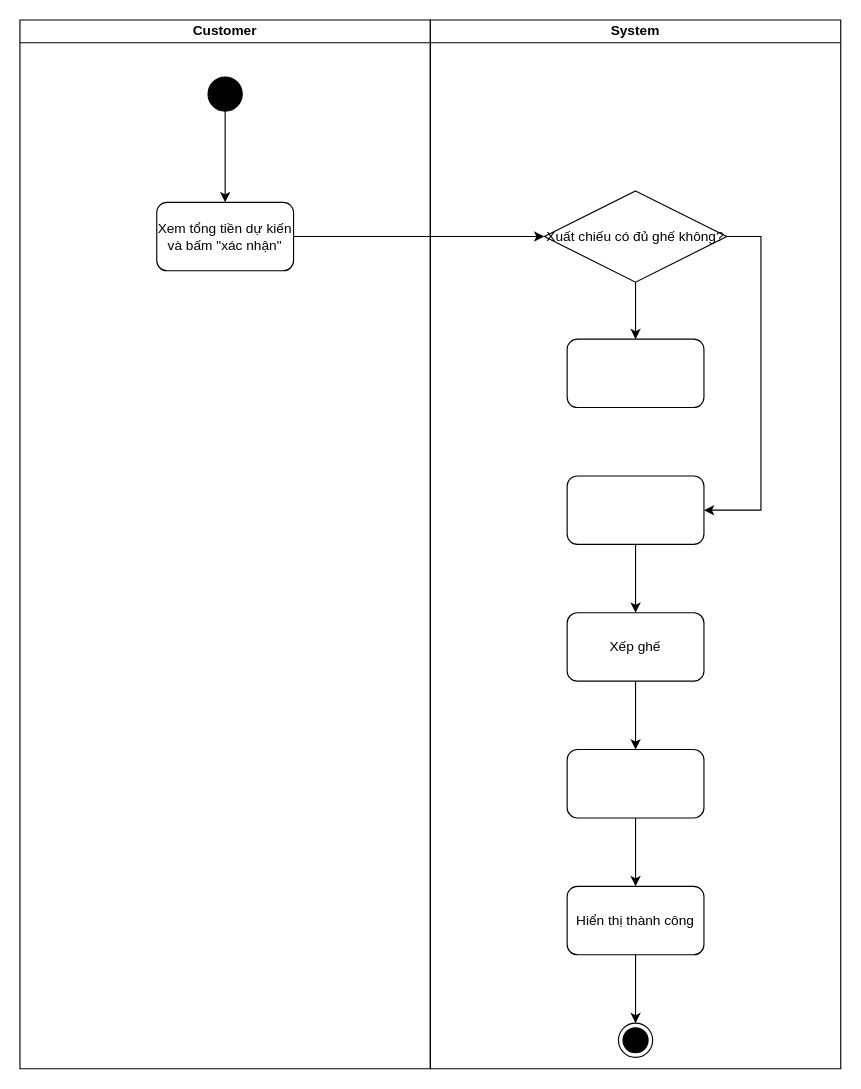
The diagram is 861 pixels wide and 1089 high, and some of its shapes have lost their labels. The shapes that lost their labels are listed below. From the top down, each one's centre as x and y in pixels, then its label:
point 635,373: Thông báo "không đủ ghế" và quay trở lại bước 3
point 635,509: Tạo đơn đặt vé
point 635,783: Cấp mã vé điện tử
